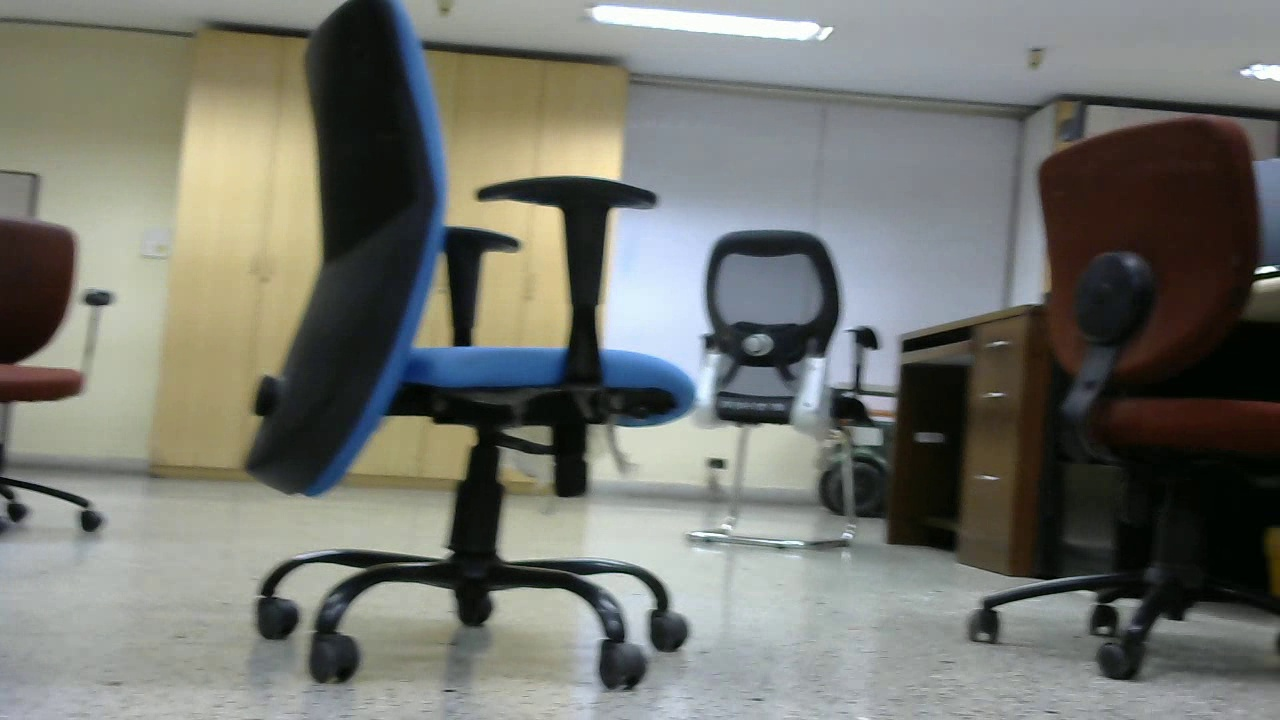chair: (236, 5, 699, 687), (969, 113, 1280, 691), (687, 218, 879, 555)
